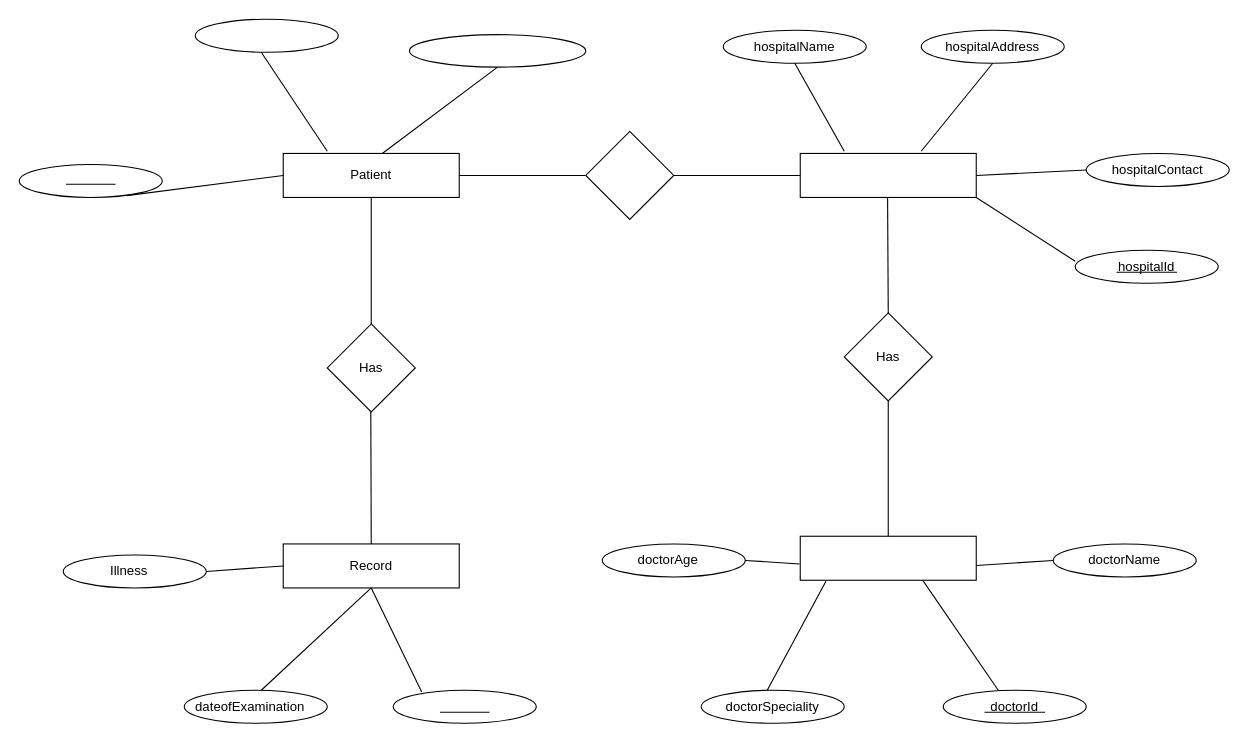
This 1249x743 diagram has some shape labels left out. Each missing label, with the centre of its shape:
"Admitted to" goes at pixel 629 174.
"Doctor" goes at pixel 887 557.
"Hospital" goes at pixel 887 174.
"patientAddress" goes at pixel 497 50.
"patientId" goes at pixel 90 180.
"patientName" goes at pixel 266 35.
"recordId" goes at pixel 464 706.
